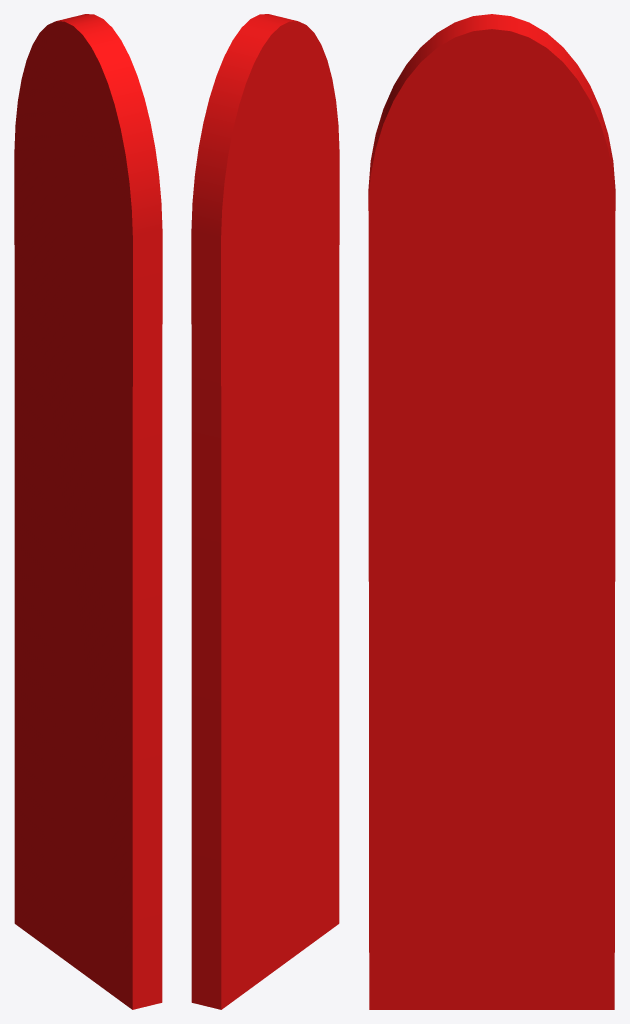
Rendered from Tongue.fbx.
3 views of the same model, side by side, from view 1: azimuth 30°, elevation 25°; view 2: azimuth 150°, elevation 25°; view 3: azimuth 270°, elevation 25° (orthographic). The views are drawn at different scales.
Visible parts, largest first — view 1: Cylinder001; view 2: Cylinder001; view 3: Cylinder001.
Part boxes in pixels (x1,y1,x2,y2): Cylinder001: (14,14,162,1009); Cylinder001: (191,14,339,1009); Cylinder001: (368,14,615,1009).
Size of the model in its own units: 1.09 by 33.17 by 7.57.
